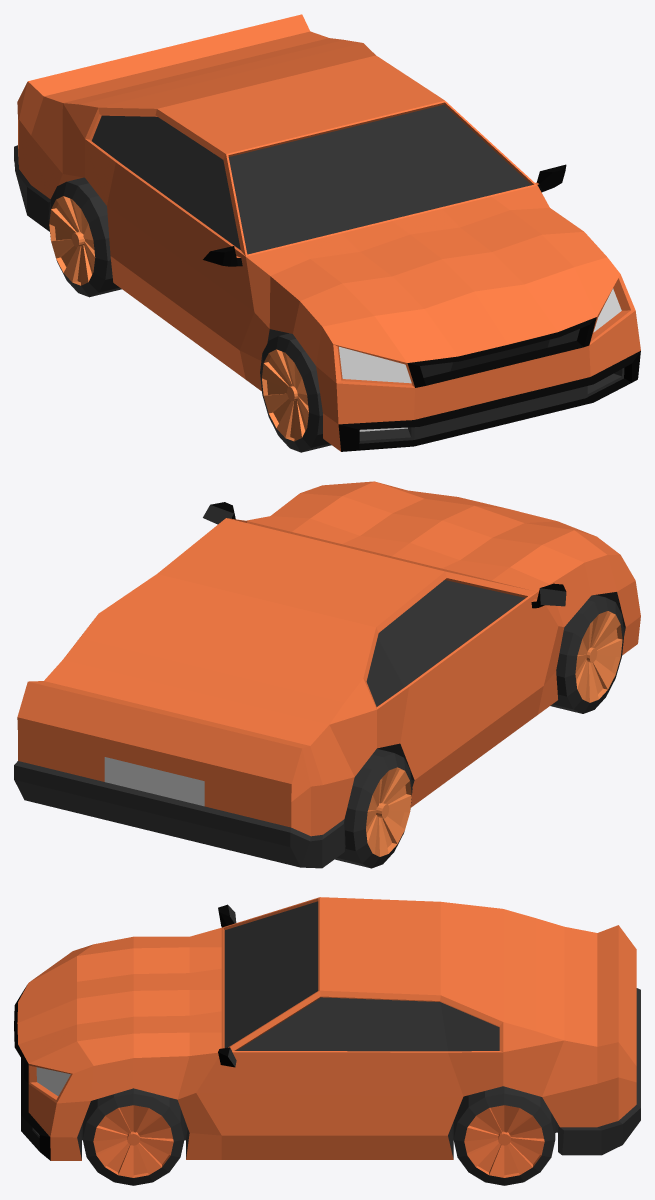
File: car.glb
3 renders of one model, top to bottom at view 1: azimuth 30°, elevation 25°; view 2: azimuth 150°, elevation 25°; view 3: azimuth 270°, elevation 25°, orthographic. The views are drawn at different scales.
Visible parts, largest first — view 1: Low Poly Sports Car, Low Poly Sports Car.003, Low Poly Sports Car.001; view 2: Low Poly Sports Car, Low Poly Sports Car.003, Low Poly Sports Car.001; view 3: Low Poly Sports Car, Low Poly Sports Car.004, Low Poly Sports Car.002.
Part boxes in pixels (x1,y1,x2,y2): Low Poly Sports Car: (14, 14, 640, 451); Low Poly Sports Car.003: (48, 177, 121, 297); Low Poly Sports Car.001: (260, 333, 331, 452); Low Poly Sports Car: (14, 481, 640, 868); Low Poly Sports Car.003: (335, 749, 412, 868); Low Poly Sports Car.001: (550, 595, 624, 713); Low Poly Sports Car: (14, 897, 640, 1160); Low Poly Sports Car.004: (453, 1086, 555, 1185); Low Poly Sports Car.002: (82, 1088, 184, 1185).
Size of the model in its own units: 2.6 by 1.41 by 4.46.
